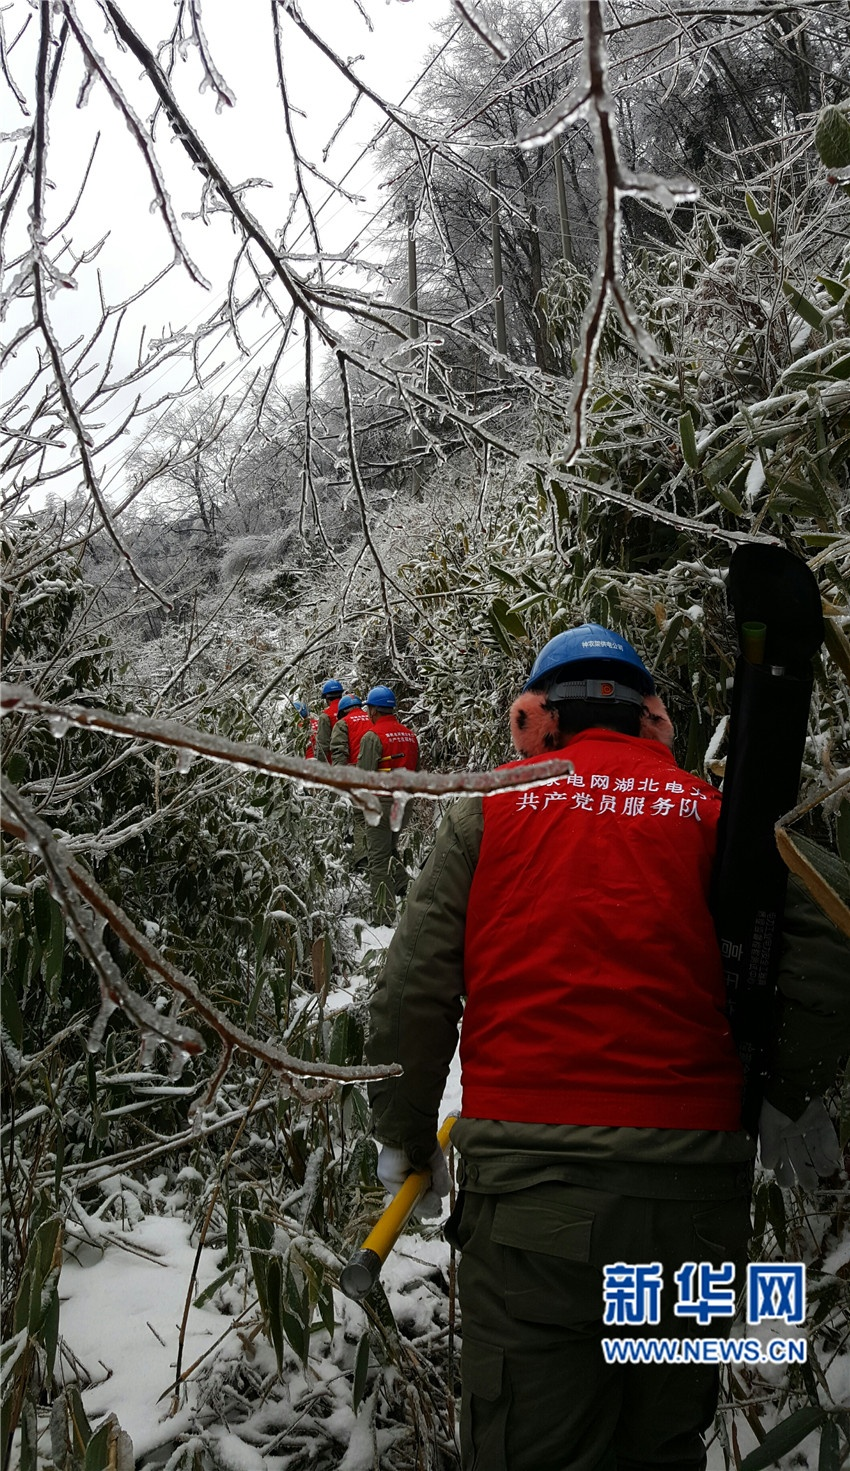blue: (523, 626, 657, 744), (365, 683, 396, 720), (335, 692, 363, 718), (319, 678, 343, 705)
